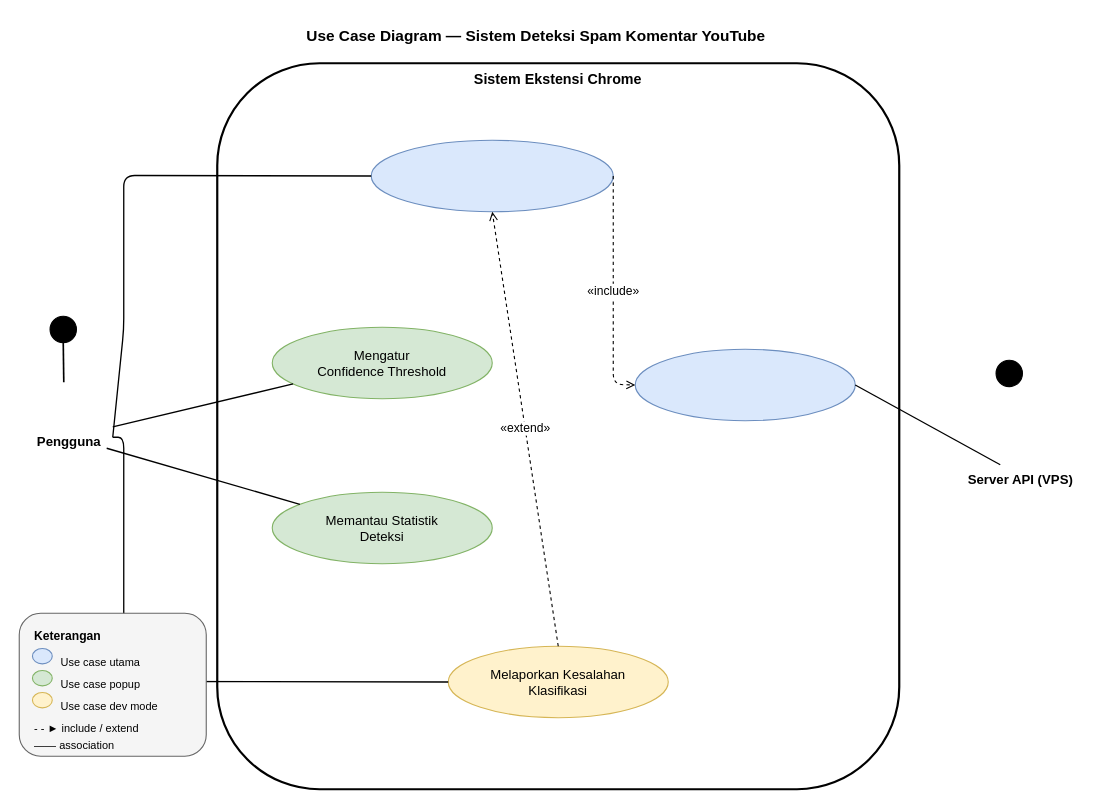
The diagram is 1100 pixels wide and 809 high, and some of its shapes have lost their labels. Each missing label, with the centre of its shape:
"Mengklasifikasikan Teks" goes at (744,384).
"Menyaring Komentar Spam" goes at (491,175).
